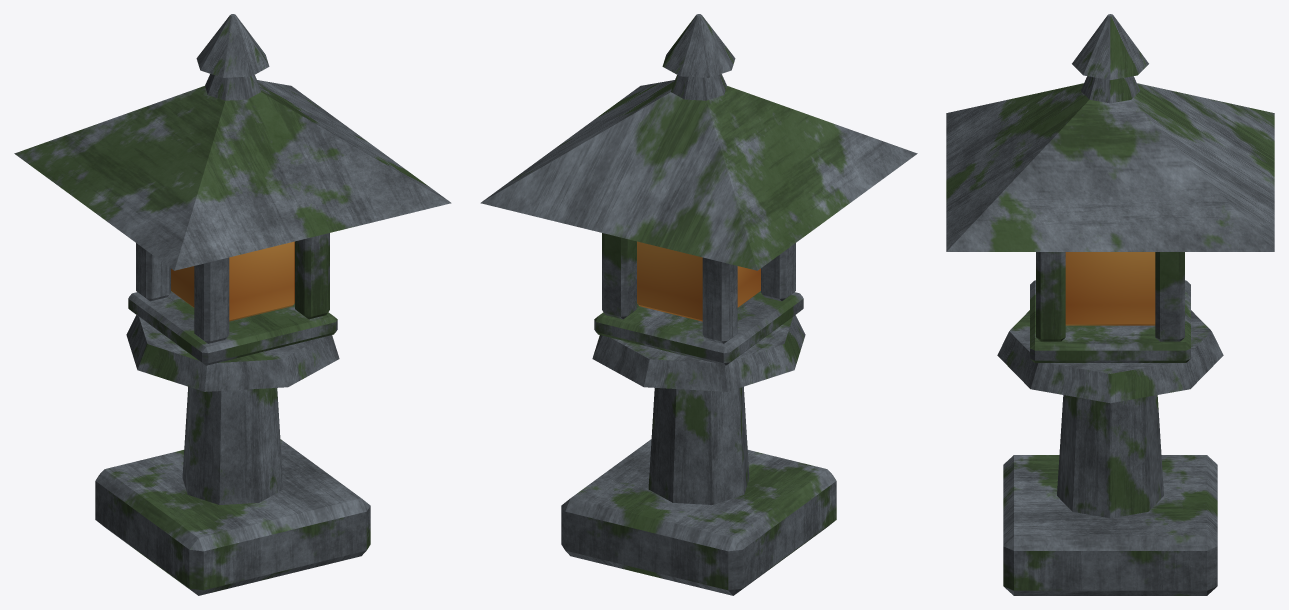
Rendered from Lantern_Stone.glb.
3 renders of one model, left to right at view 1: azimuth 30°, elevation 25°; view 2: azimuth 150°, elevation 25°; view 3: azimuth 270°, elevation 25°, orthographic. The views are drawn at different scales.
Visible parts, largest first — view 1: Lantern_Stone__Stone, Lantern_Stone__Glow; view 2: Lantern_Stone__Stone, Lantern_Stone__Glow; view 3: Lantern_Stone__Stone, Lantern_Stone__Glow.
Part boxes in pixels (x1,y1,x2,y2): Lantern_Stone__Stone: [14, 14, 451, 595]; Lantern_Stone__Glow: [171, 241, 294, 321]; Lantern_Stone__Stone: [480, 14, 917, 595]; Lantern_Stone__Glow: [637, 241, 760, 321]; Lantern_Stone__Stone: [946, 14, 1274, 595]; Lantern_Stone__Glow: [1065, 252, 1155, 325].
Size of the model in its own units: 5.52 by 10 by 5.52.
2 materials, 2 textured.
